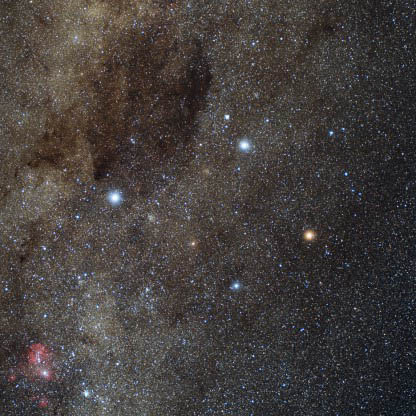Southern Cross: (95, 181, 131, 217), (220, 274, 252, 304), (228, 126, 259, 156), (296, 218, 323, 249)
